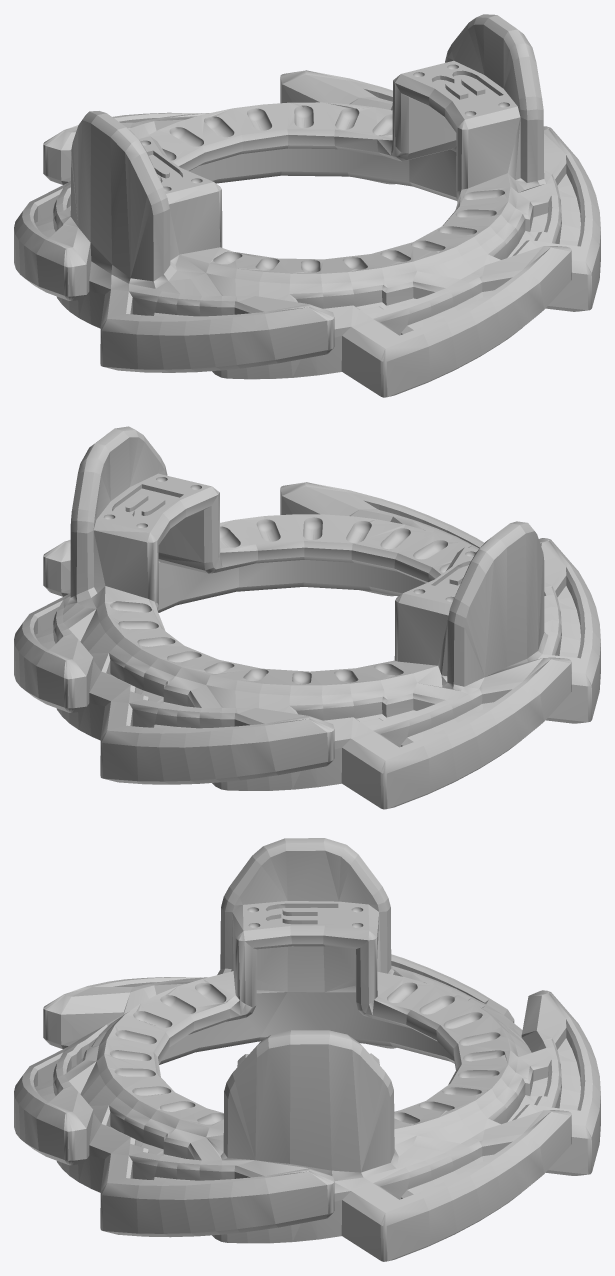
The model's file is boost.obj.
The picture shows the model from 3 angles, top to bottom: view 1: azimuth 30°, elevation 25°; view 2: azimuth 150°, elevation 25°; view 3: azimuth 270°, elevation 25°; orthographic projection.
Parts seen in each view (by area): view 1: boostdisk; view 2: boostdisk; view 3: boostdisk.
Part boxes in pixels (x1=…): boostdisk: x1=14, y1=14, x2=600, y2=397; boostdisk: x1=14, y1=426, x2=600, y2=809; boostdisk: x1=14, y1=838, x2=600, y2=1261.
Size of the model in its own units: 0.389 by 0.1543 by 0.3899.
